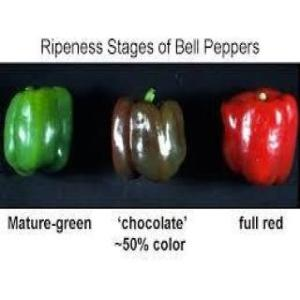bell_pepper: (112, 88, 188, 184)
